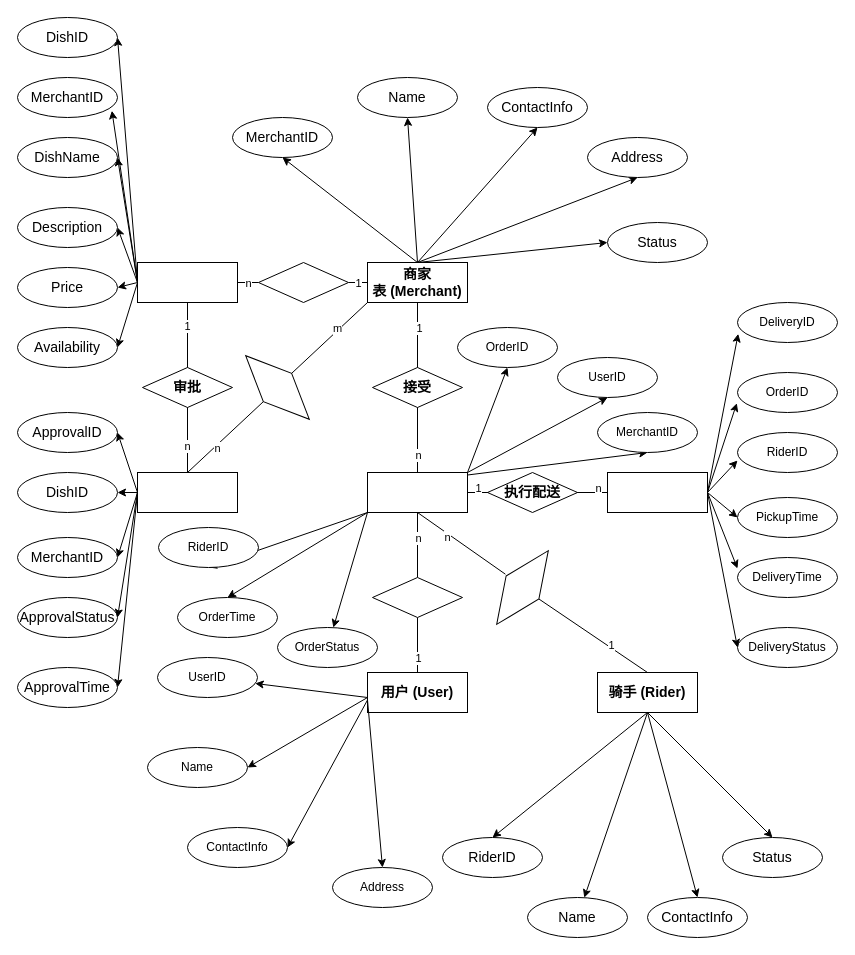
This 855x955 diagram has some shape labels left out. The centre of each missing label's shape, as x and y in pixels:
创建: point (417, 597)
审批表 (Approval): point (187, 492)
菜品 (Dish): point (187, 282)
菜品审批: point (277, 387)
订单 (Order): point (417, 492)
配送: point (522, 587)
配送 (Delivery): point (657, 492)
销售: point (303, 282)
